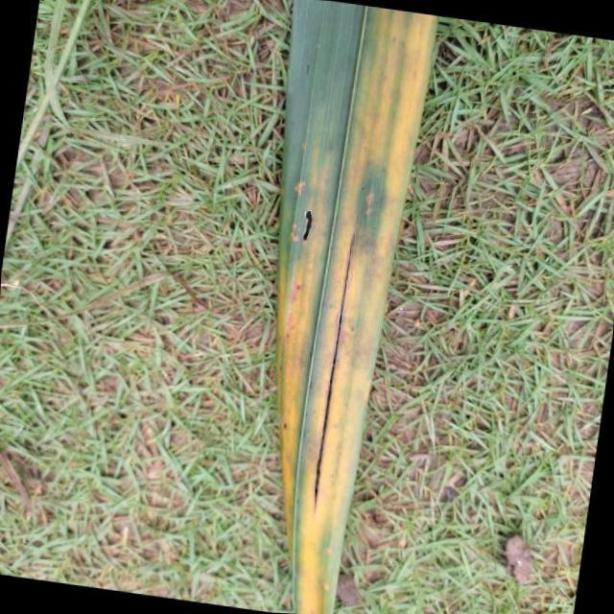Megnesium: (270, 5, 440, 614)
